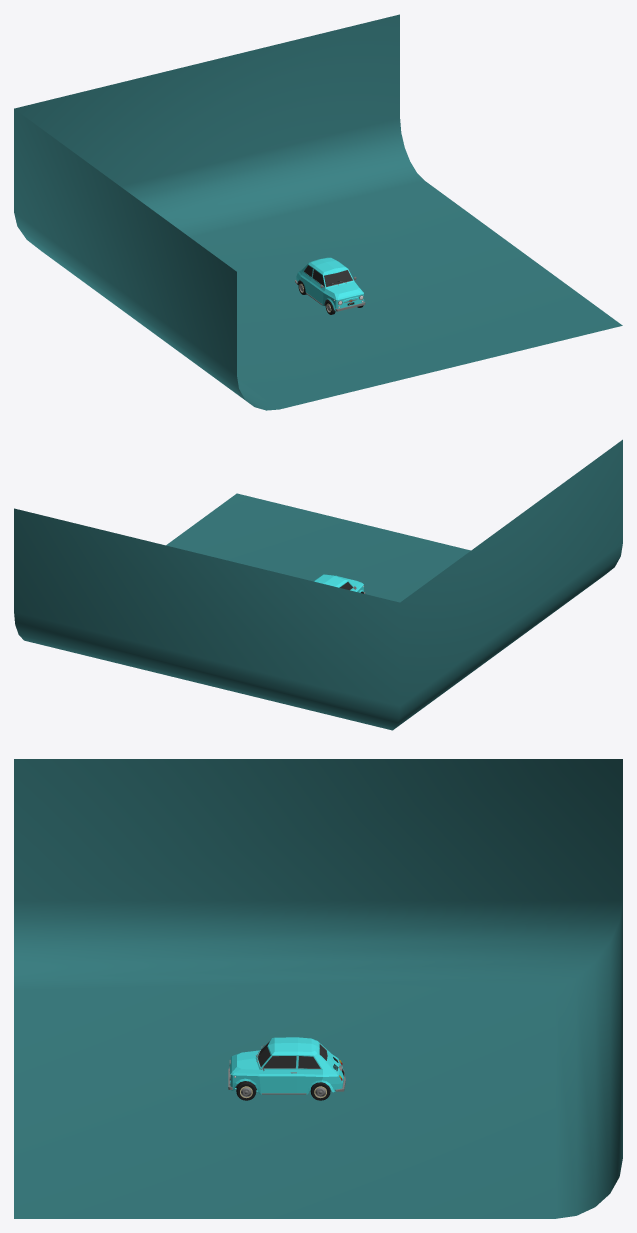
File: Car.fbx
The picture shows the model from 3 angles, top to bottom: view 1: azimuth 30°, elevation 25°; view 2: azimuth 150°, elevation 25°; view 3: azimuth 270°, elevation 25°; orthographic projection. The views are drawn at different scales.
Visible parts, largest first — view 1: Plane.005, Cube; view 2: Plane.005, Cube; view 3: Plane.005, Cube.
Part boxes in pixels (x1,y1,x2,y2): Plane.005: [14, 14, 622, 410]; Cube: [296, 257, 364, 310]; Plane.005: [14, 439, 622, 730]; Cube: [313, 574, 363, 593]; Plane.005: [14, 759, 622, 1218]; Cube: [230, 1037, 343, 1094].
Size of the model in its own units: 1475 by 542 by 1475.
